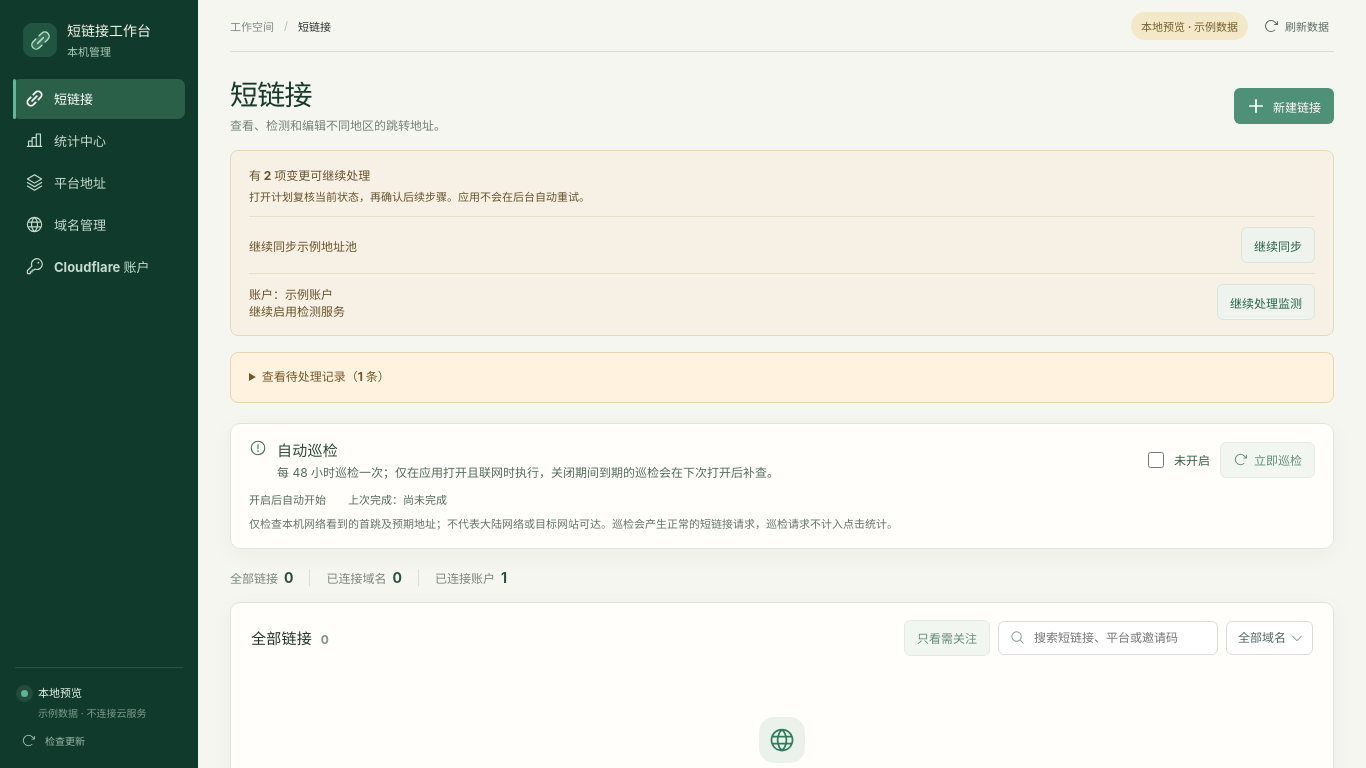
offers structured pending actions and requires a review plan before resuming
This screenshot has width=1366, height=768.
expect the element named "可继续的变更" is shown: met, box [230, 150, 1334, 336]
Step 1. Click the button "继续同步" → (1278, 245), box [1241, 227, 1315, 263]
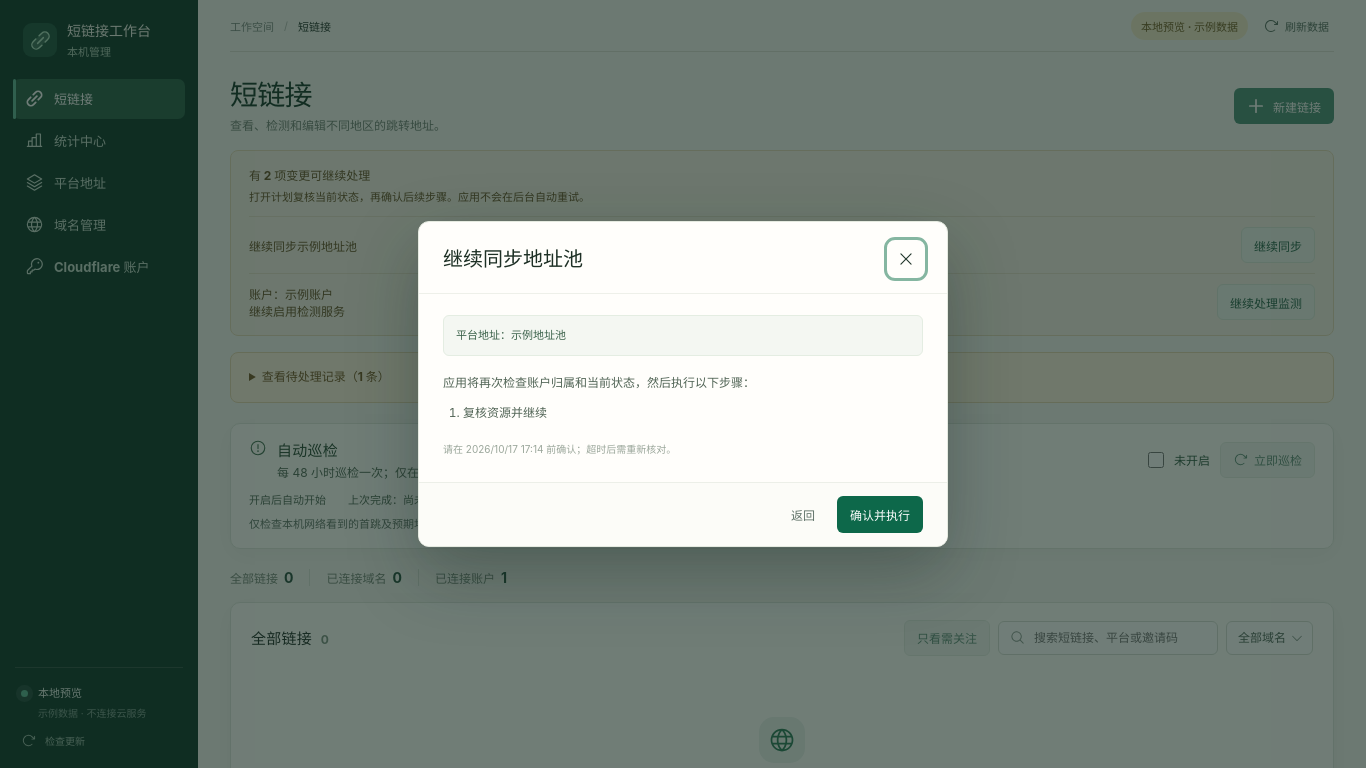
expect the text "平台地址：示例地址池" is shown: met, box [456, 328, 566, 342]
Step 2. Click the button "返回" → (803, 514), box [778, 496, 828, 533]
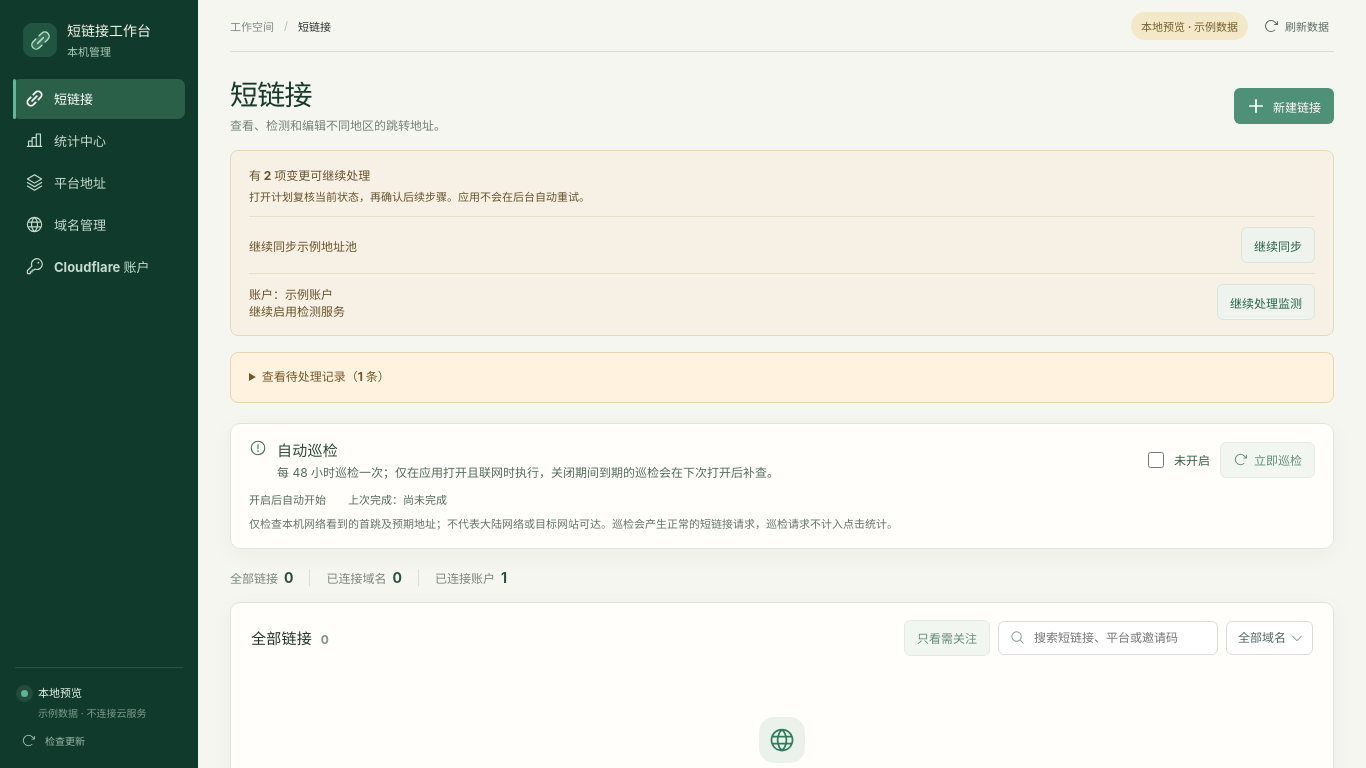
Step 3. Click the button "继续处理监测" → (1266, 302), box [1217, 284, 1315, 320]
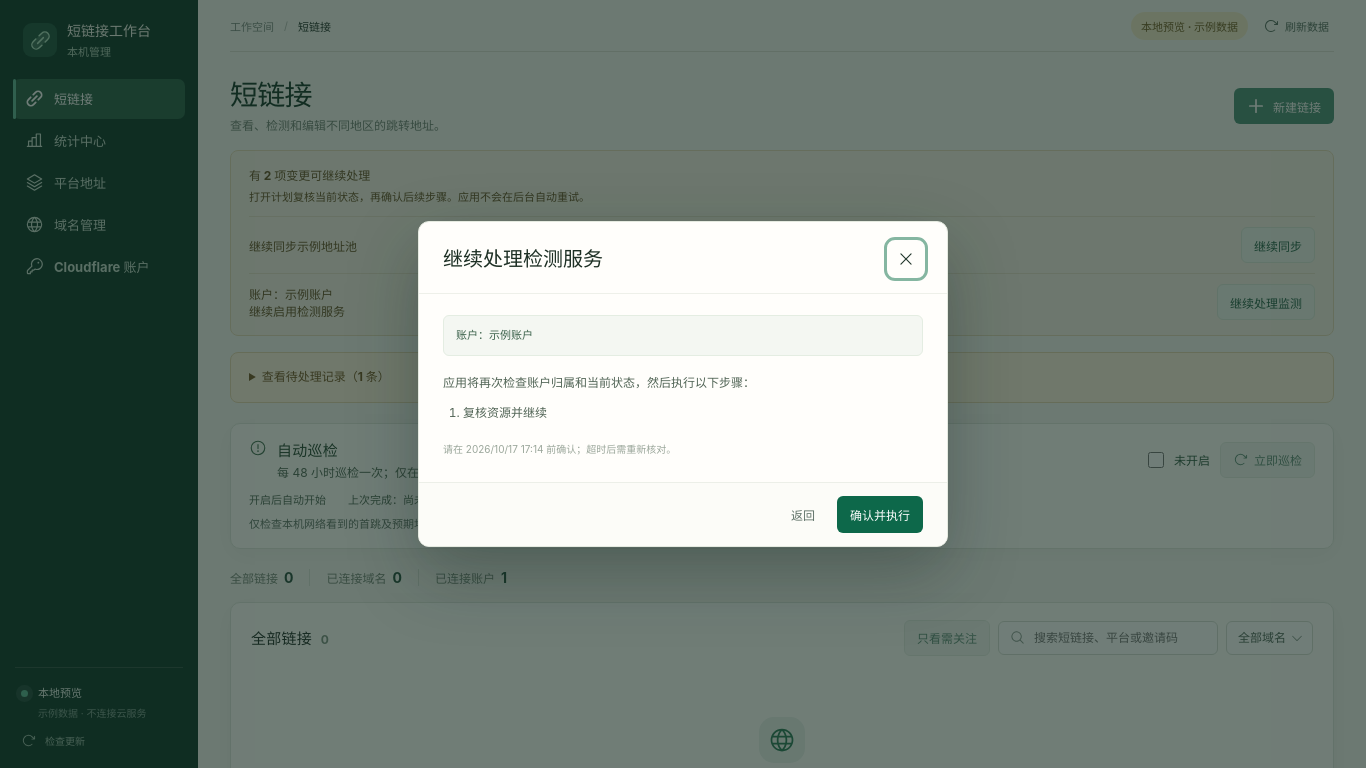
expect the text "账户：示例账户" is shown: met, box [456, 328, 533, 342]
Step 4. Click the button "确认并执行" → (880, 514), box [837, 496, 923, 533]
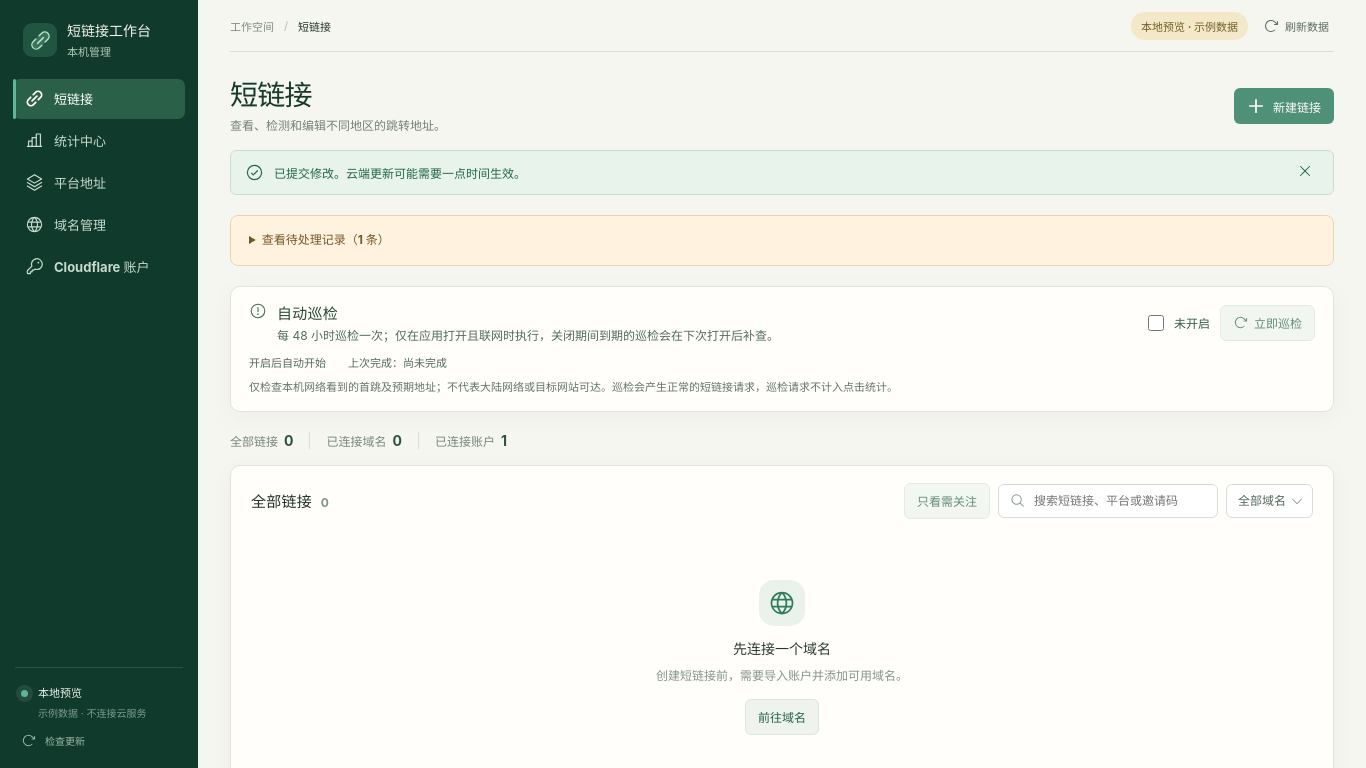
expect the element "可继续的变更" is gone: met
